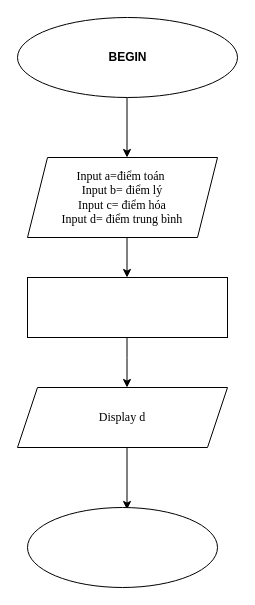
Image size: 255x605. Some labels were removed from this diagram. Each missing label, with the box of its shape:
d= (a+b+c)/3: (26, 276, 228, 338)
END: (26, 506, 218, 588)
